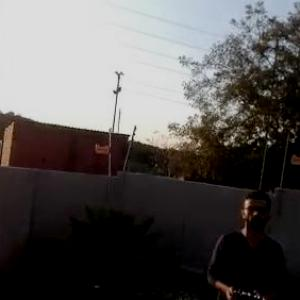follow: (200, 184, 293, 299)
